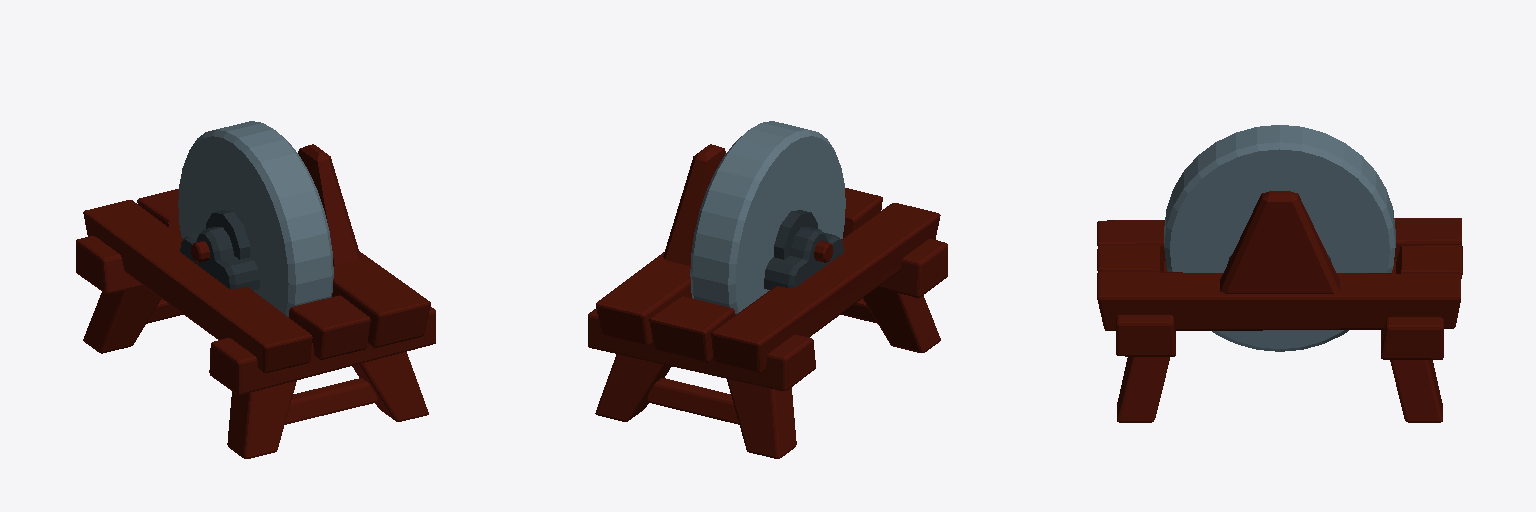
File: grindingWheel.obj
3 views of the same model, side by side, from view 1: azimuth 30°, elevation 25°; view 2: azimuth 150°, elevation 25°; view 3: azimuth 270°, elevation 25° (orthographic).
Visible parts, largest first — view 1: grindingWheel_Cube.037; view 2: grindingWheel_Cube.037; view 3: grindingWheel_Cube.037.
Part boxes in pixels (x1,y1,x2,y2): grindingWheel_Cube.037: (76, 121, 435, 458); grindingWheel_Cube.037: (588, 121, 947, 458); grindingWheel_Cube.037: (1097, 125, 1462, 422).
Bounding box in the file's own units: 0.7784 × 0.9142 × 1.24.